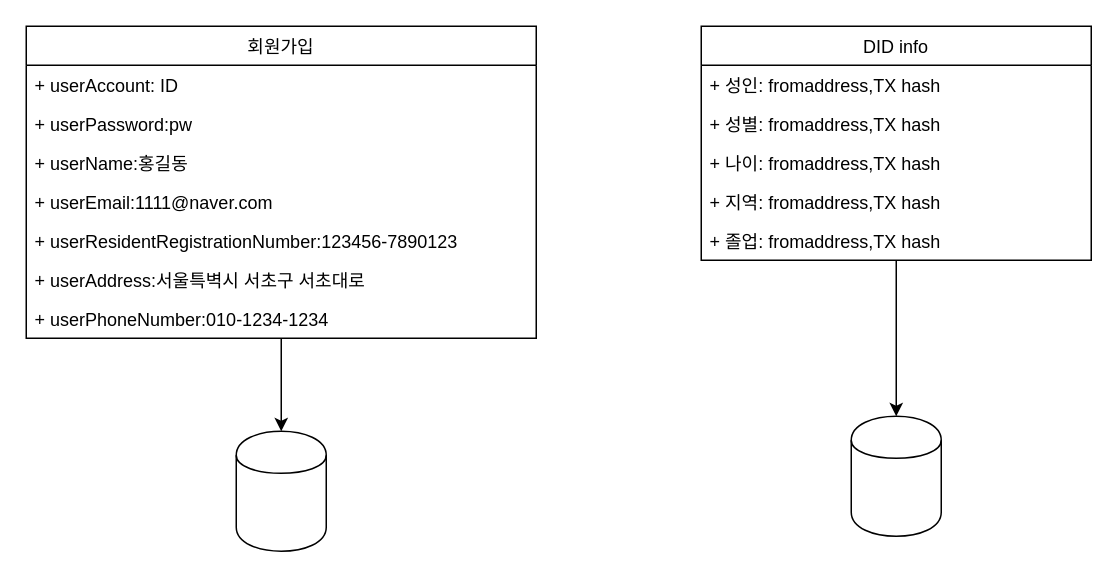
Some shapes in this 1118 by 578 pixel diagram are drawn without their labels. Each missing label, with the centre of its shape:
"DB" goes at pixel 280 490.
"DID DB" goes at pixel 895 475.
